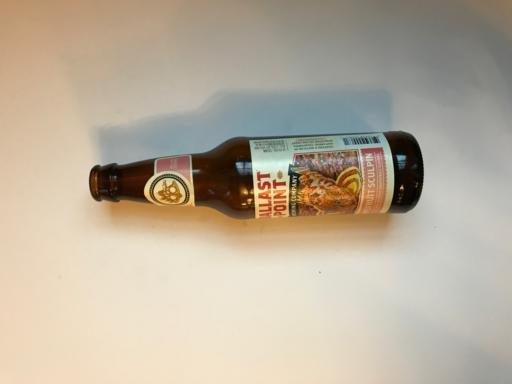botolkaca: (88, 130, 424, 220)
